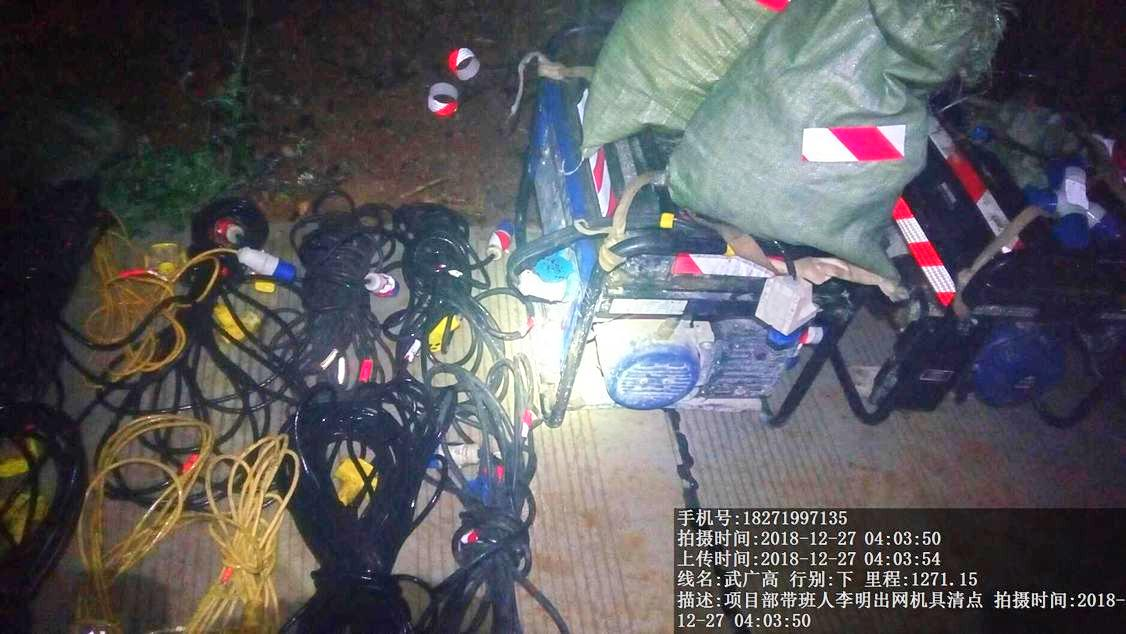DJ: (521, 105, 829, 433)
DX: (286, 422, 432, 614), (439, 406, 565, 621), (393, 201, 517, 406)
